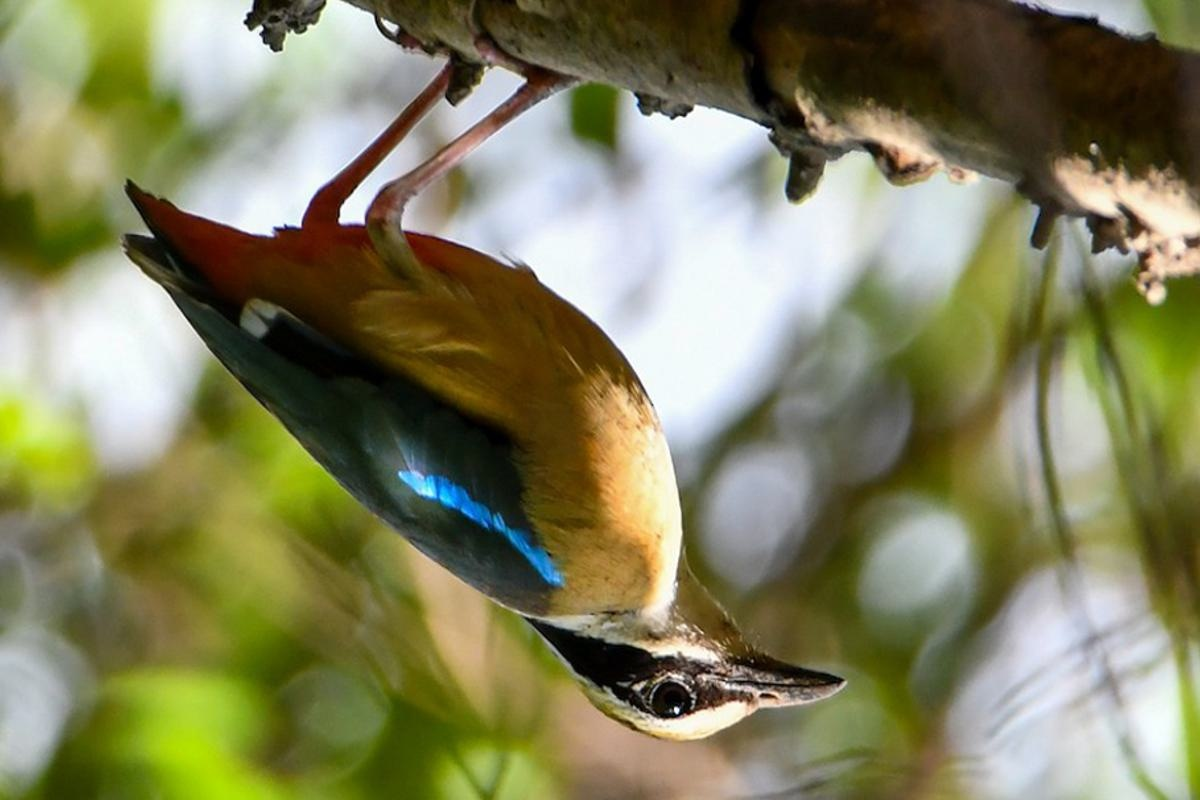pitta: (103, 103, 863, 750)
